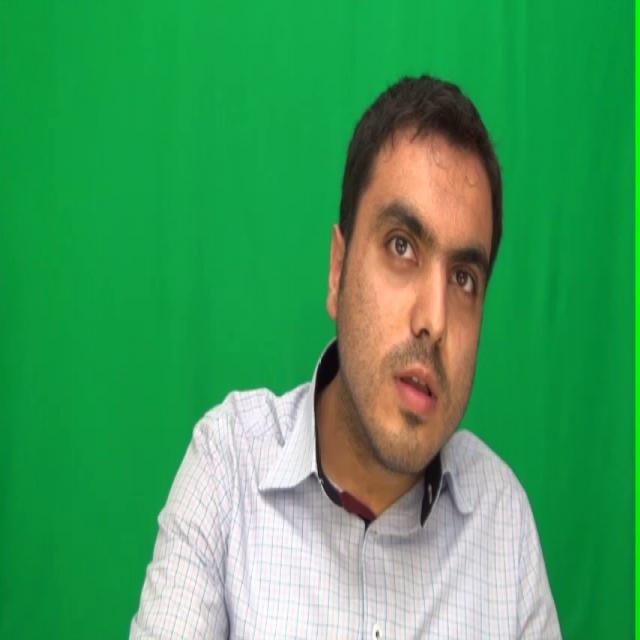Engaged: (340, 116, 484, 465)
